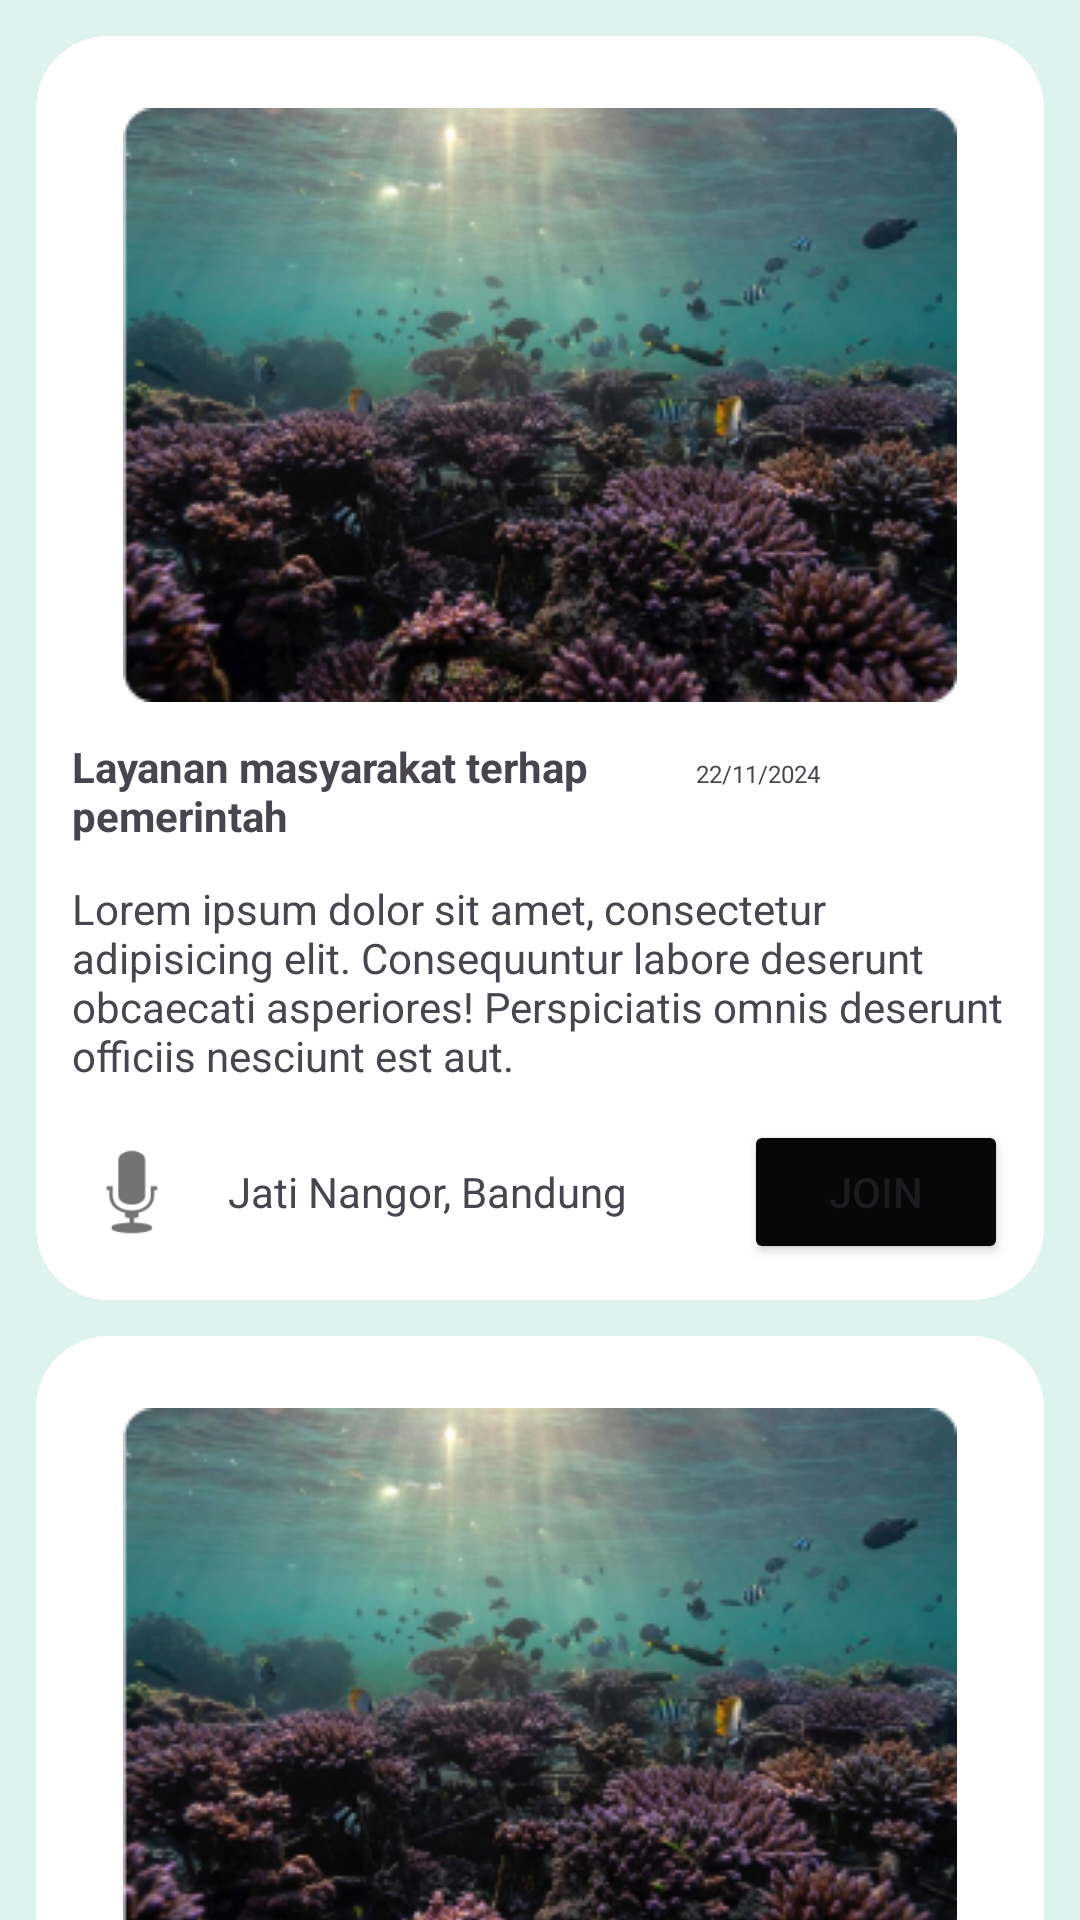

Where to tap for icons on this 1080px×1920px app screen, as [x,y]:
speak now: [132,1192]
